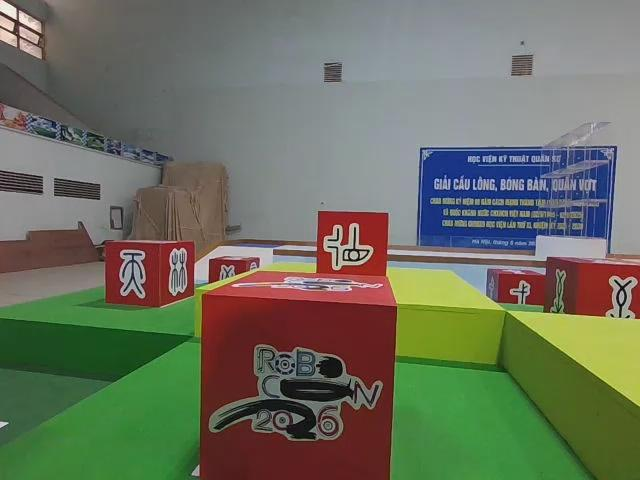R1: (196, 267, 400, 480)
R2 Fake: (102, 237, 197, 309)
R2 Real: (543, 253, 640, 327), (314, 207, 390, 282), (484, 265, 549, 312)
